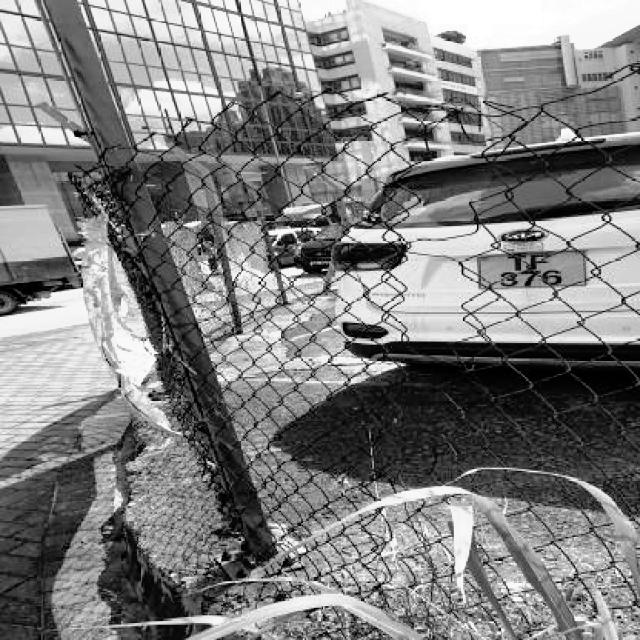anomaly-fence: (290, 199, 574, 482)
